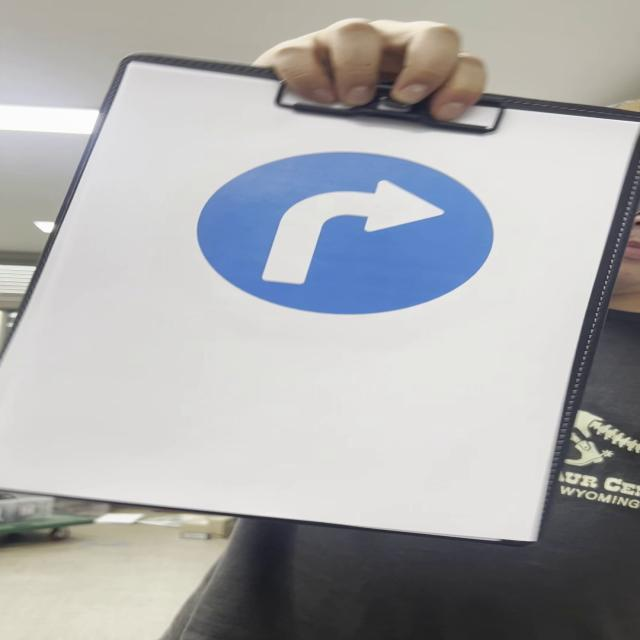right: (192, 148, 493, 317)
